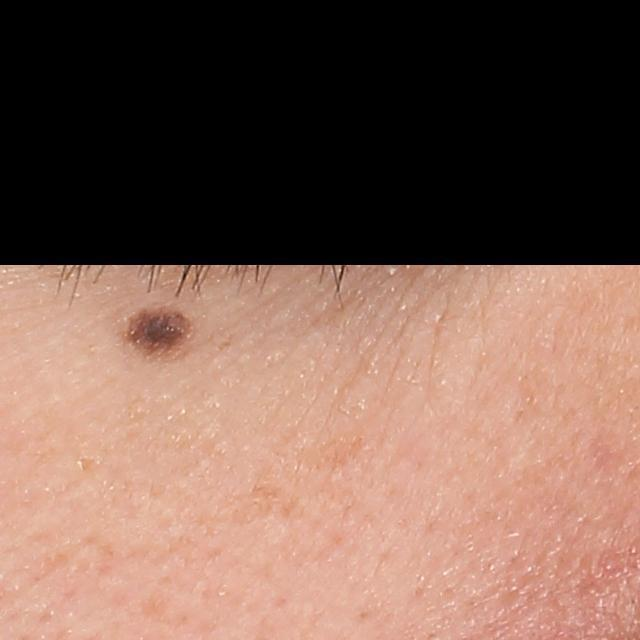nevus: (107, 303, 209, 365)
